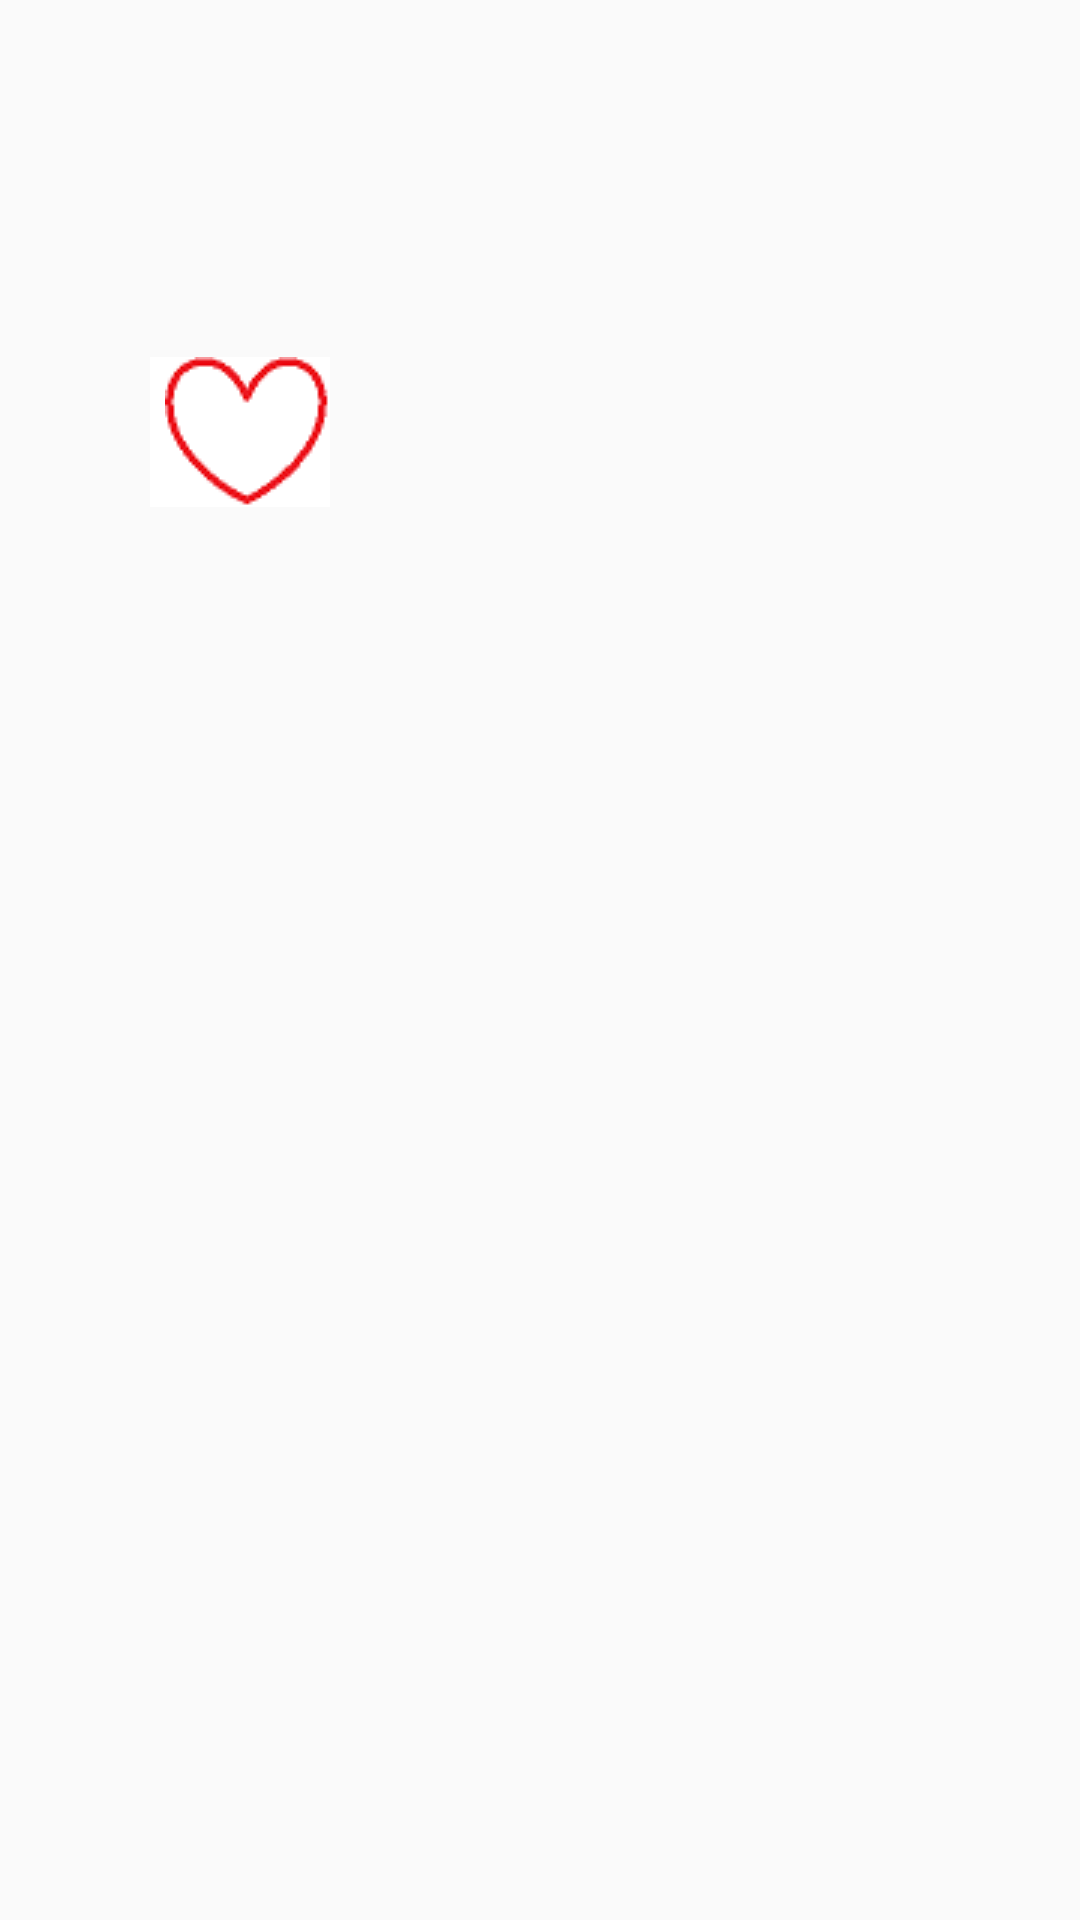

Where icons sit on this 1080px×1920px app screen, as region(x1, y1, x2, y2):
fav: region(165, 357, 328, 505)
